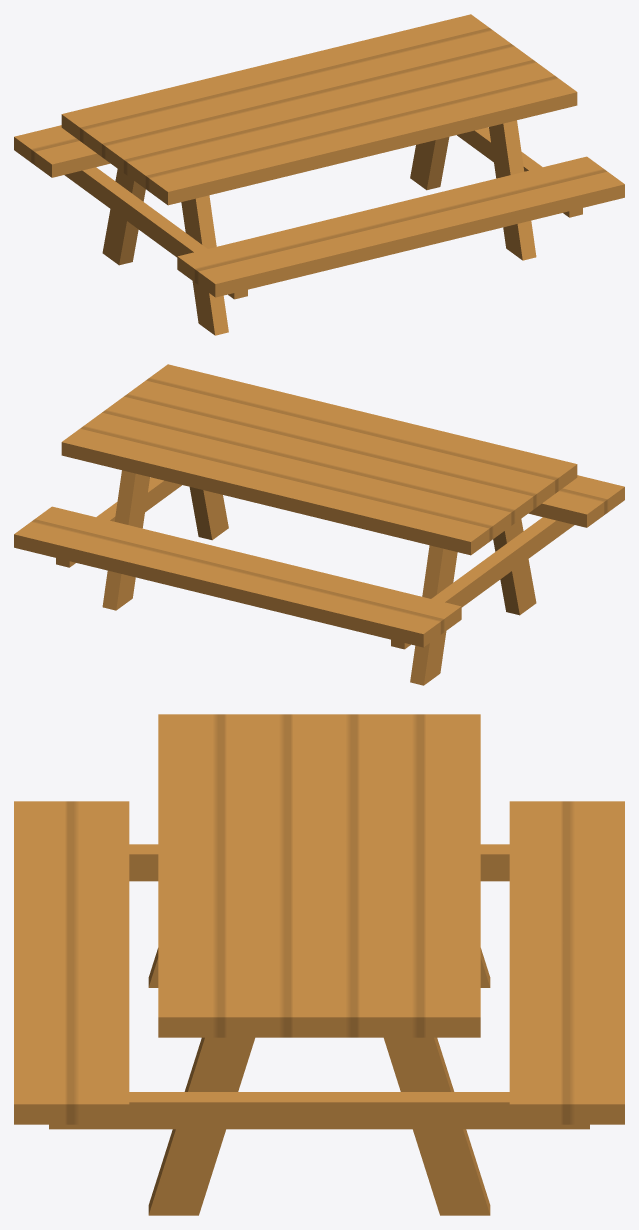
File: west_zs07.FBX
The picture shows the model from 3 angles, top to bottom: view 1: azimuth 30°, elevation 25°; view 2: azimuth 150°, elevation 25°; view 3: azimuth 270°, elevation 25°; orthographic projection. The views are drawn at different scales.
Parts seen in each view (by area): view 1: west_zs07; view 2: west_zs07; view 3: west_zs07.
Part boxes in pixels (bbox=[...]): west_zs07: bbox=[14, 14, 624, 335]; west_zs07: bbox=[14, 364, 624, 685]; west_zs07: bbox=[14, 714, 624, 1215].
Size of the model in its own units: 555 by 197 by 473.
